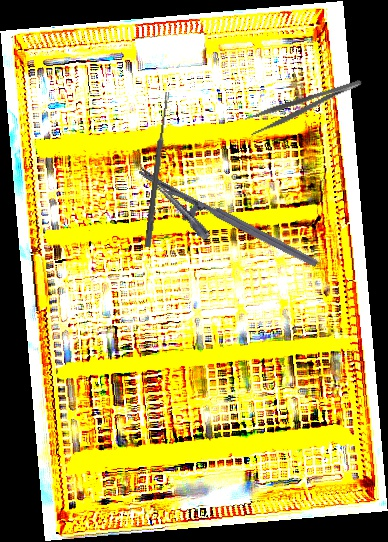Dressing Forceps: (242, 76, 368, 137)
Needle Holder: (125, 166, 319, 292)
Surgical Spoon: (144, 91, 171, 248)
